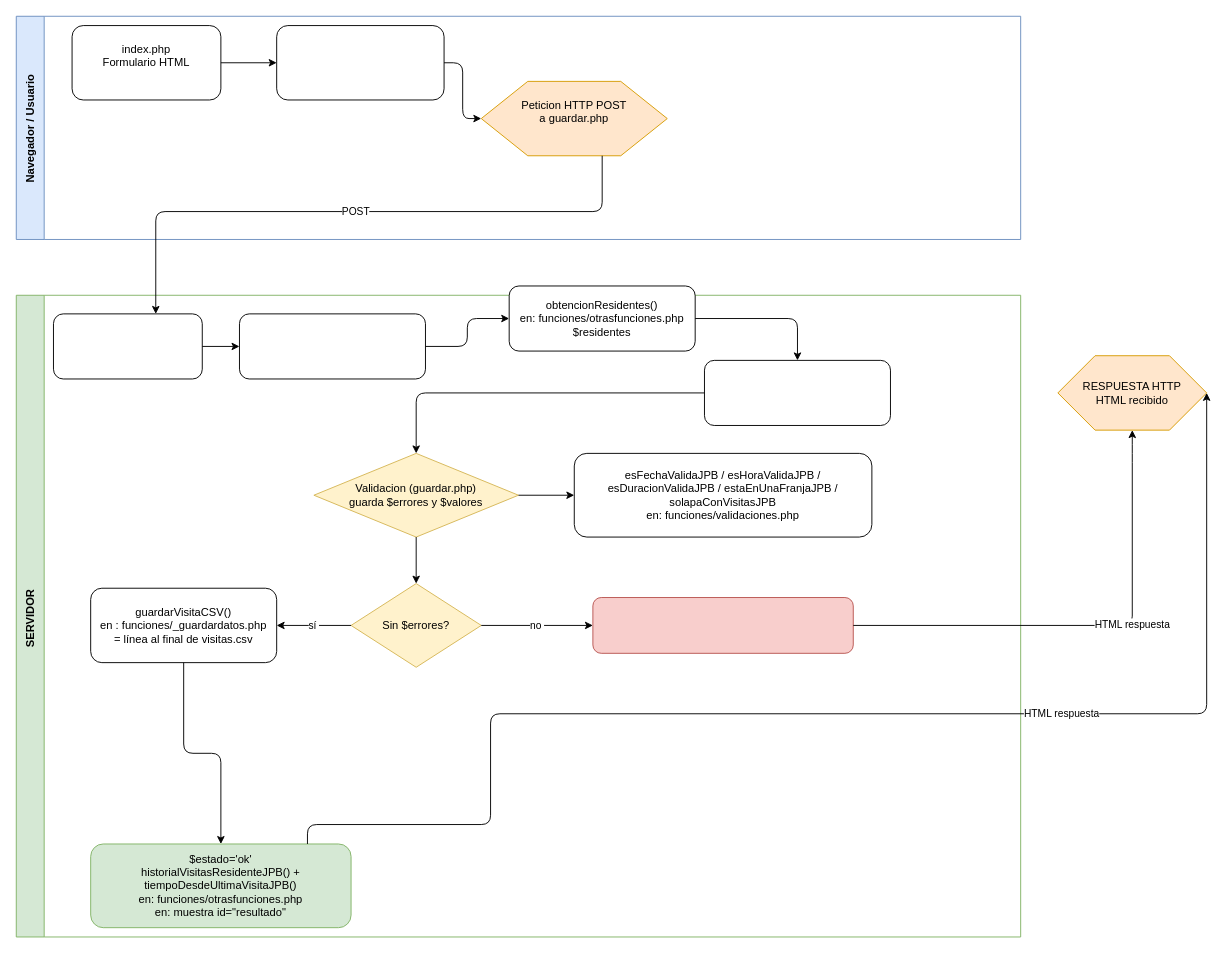
The diagram is 1230 pixels wide and 953 high, and some of its shapes have lost their labels. The shapes that lost their labels are listed below. From the top down, each one's centre as x and y in pixels, then its label:
[360,62]: Al clicar "Registrar la visita" → método POST envia datos
[127,346]: guardar.php recibe $_POST con los datos
[332,346]: cargarVisitasJPB() en : funciones/visitas.php [$ok,$ko,$visitas]
[797,392]: conf/horario.php $tramos, $duracion_minima
[722,625]: index.php muestra formulario con id="errores" y $valores
